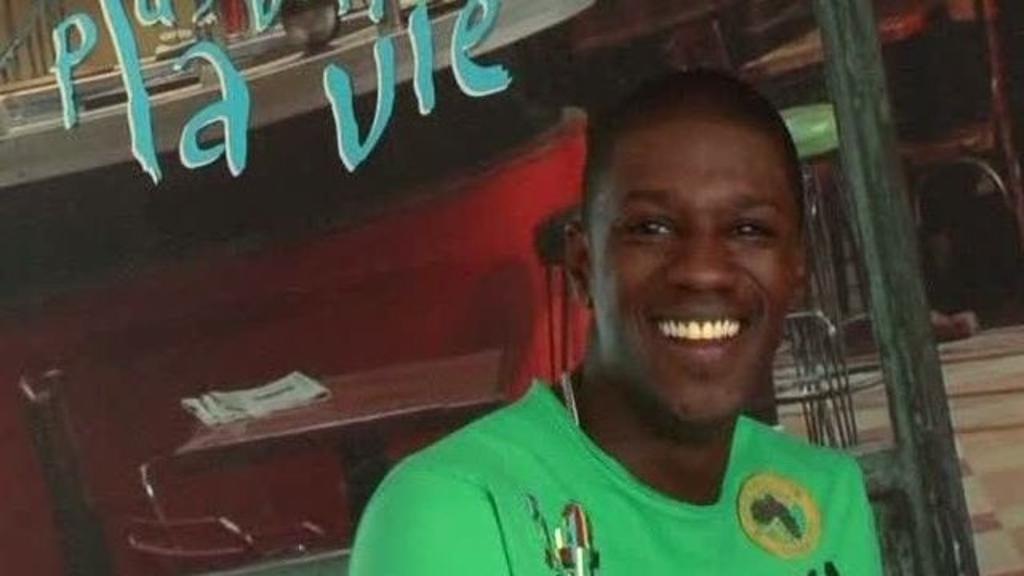face: (594, 124, 798, 432)
